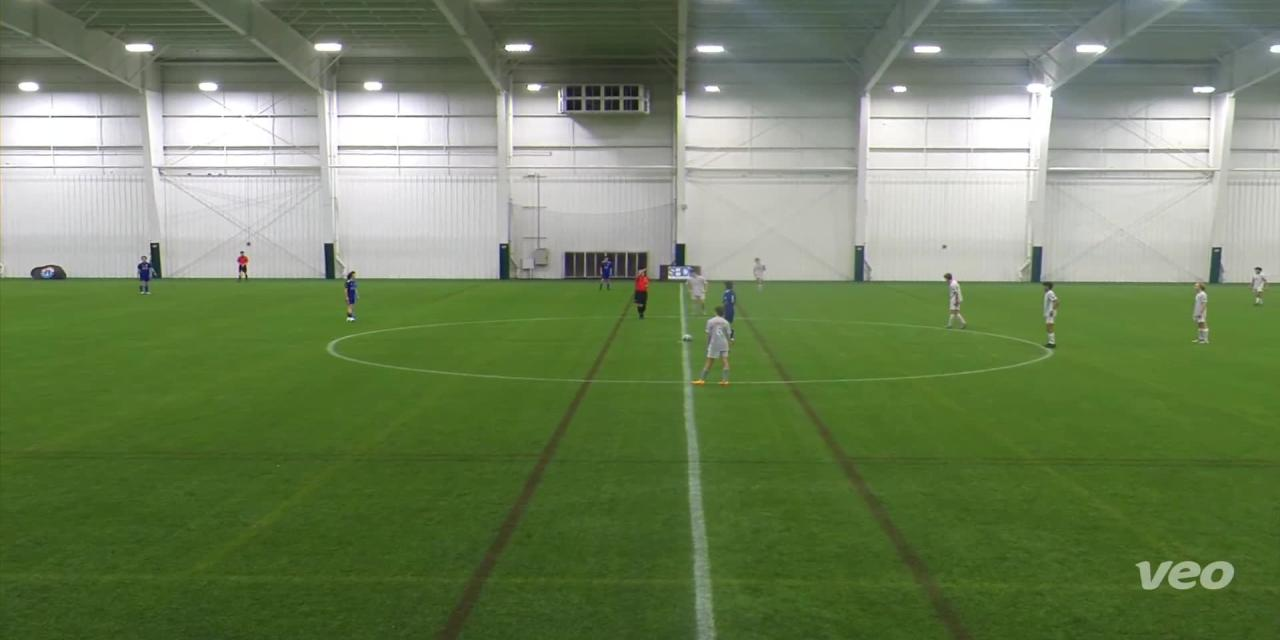sports ball: (677, 328, 697, 346)
